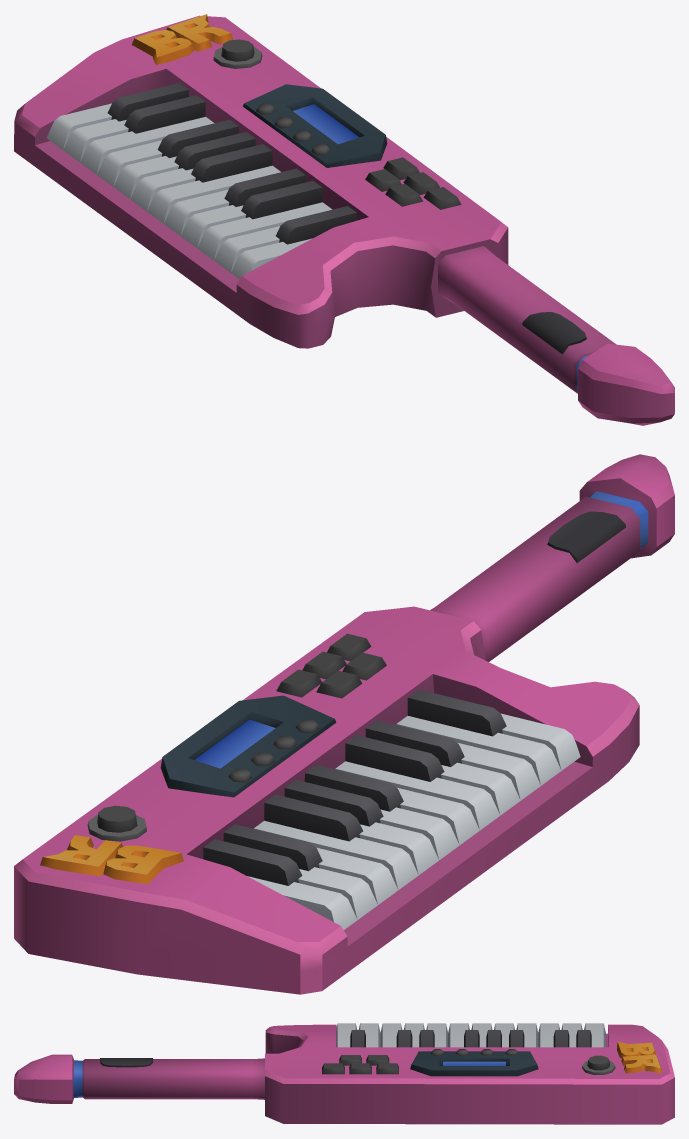
The model's file is Melee_ElectricSolo.fbx.
The picture shows the model from 3 angles, top to bottom: view 1: azimuth 30°, elevation 25°; view 2: azimuth 150°, elevation 25°; view 3: azimuth 270°, elevation 25°; orthographic projection. The views are drawn at different scales.
Parts seen in each view (by area): view 1: Melee_ElectricSolo; view 2: Melee_ElectricSolo; view 3: Melee_ElectricSolo.
Part boxes in pixels (x1,y1,x2,y2): Melee_ElectricSolo: (14, 14, 674, 425); Melee_ElectricSolo: (14, 454, 674, 994); Melee_ElectricSolo: (14, 1023, 674, 1124).
Bounding box in the file's own units: 0.3266 × 0.1121 × 1.19.
